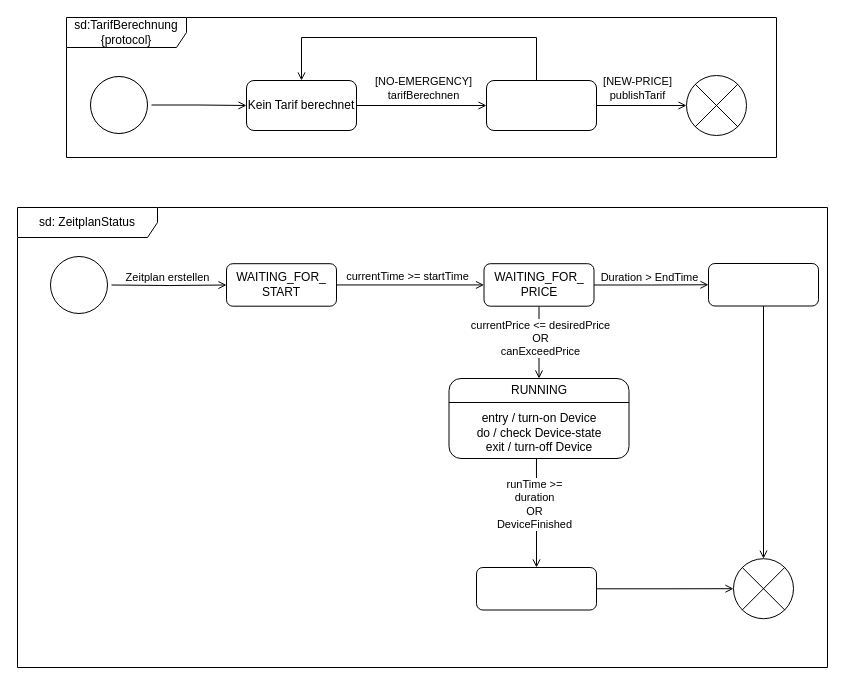
Some shapes in this 845 by 685 pixel diagram are drawn without their labels. Here are the shapes that lost their labels. From the top down, the centre of each, then its label:
At pixel 541 105: "Tarif berechnet".
At pixel 763 284: "CANCELLED_BY_ PRICE".
At pixel 536 588: "FINISHED".
